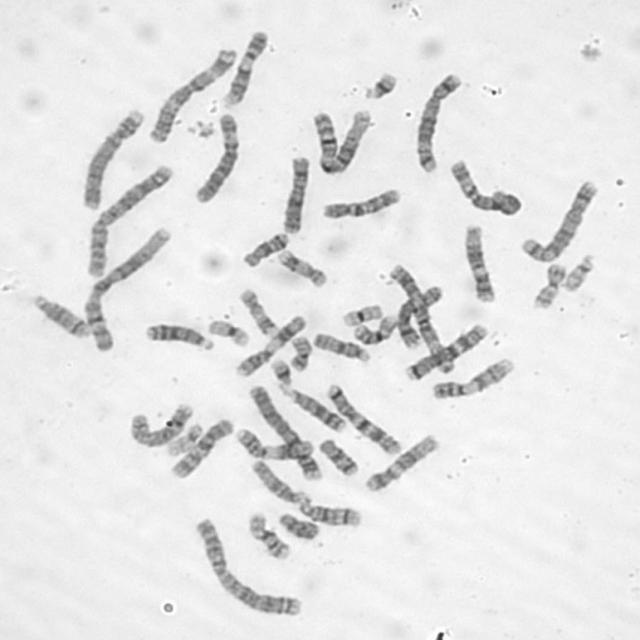A1: (81, 224, 173, 353), (310, 106, 374, 177)
A2: (192, 516, 304, 618), (81, 162, 175, 279)
A3: (146, 45, 238, 143), (386, 260, 457, 375)
B4: (246, 382, 324, 483), (77, 105, 145, 212)
B5: (516, 177, 601, 264), (411, 69, 463, 174)
C10: (166, 416, 235, 480), (318, 184, 403, 222)
C11: (232, 311, 308, 379), (232, 424, 314, 461)
C12: (362, 431, 442, 494), (461, 222, 497, 304)
C6: (191, 110, 241, 205), (446, 156, 524, 216)
C7: (323, 381, 402, 456), (402, 321, 489, 382)
C8: (393, 281, 445, 350), (125, 399, 196, 448)
C9: (429, 354, 516, 401), (220, 28, 270, 108)
D13: (281, 385, 347, 434), (143, 316, 214, 352)
D14: (30, 291, 91, 340), (295, 498, 364, 528)
D15: (249, 456, 310, 506), (311, 328, 371, 364)
E16: (246, 508, 292, 562), (349, 311, 399, 346)
E17: (275, 243, 327, 290), (236, 287, 278, 338)
E18: (240, 230, 290, 272), (316, 434, 360, 478)
F19: (206, 315, 251, 347), (339, 300, 384, 328)
F20: (530, 260, 568, 309), (285, 328, 313, 372)
G21: (359, 68, 399, 102), (268, 355, 294, 387)
G22: (162, 421, 204, 457), (559, 252, 596, 292)
X: (278, 152, 311, 235)
Y: (276, 508, 320, 542)
